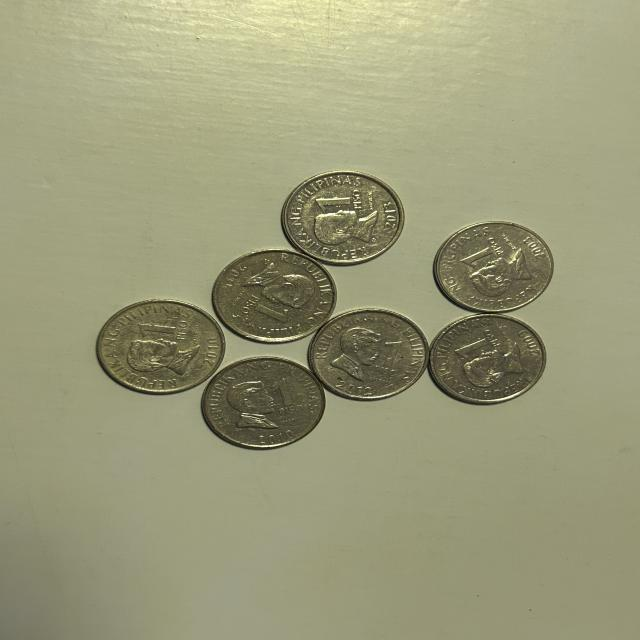1_Old_Front: (235, 292, 294, 328), (444, 330, 504, 362), (265, 378, 308, 419), (454, 237, 506, 270), (129, 316, 192, 342), (369, 336, 403, 381), (314, 189, 366, 213)
